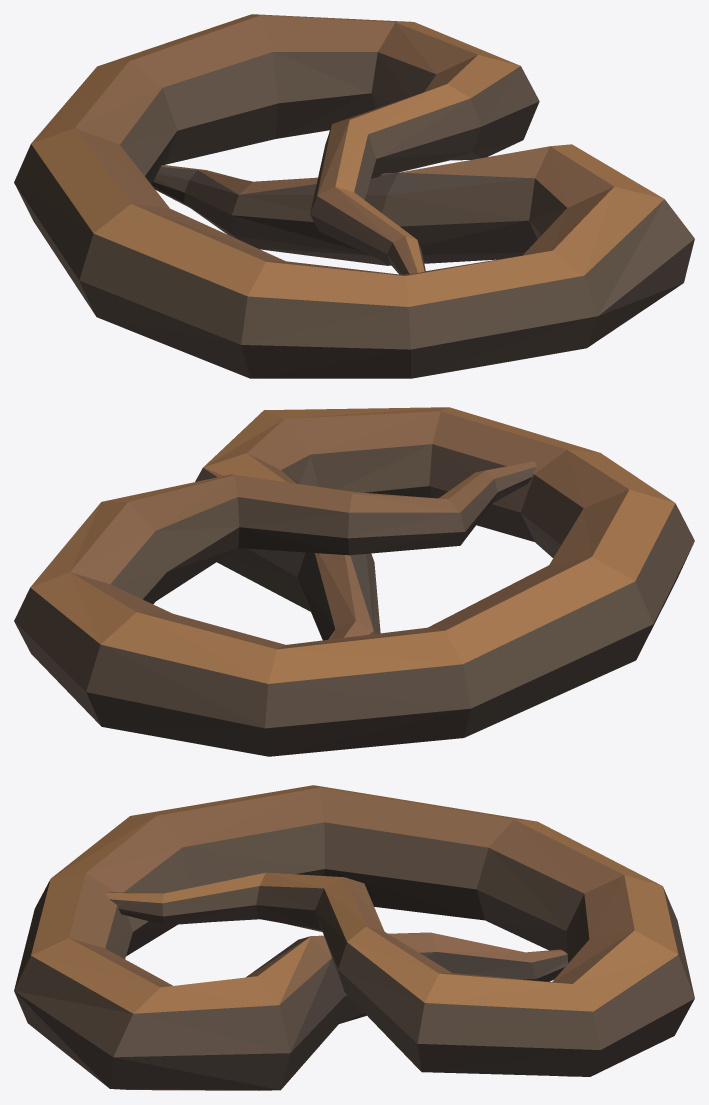
File: pretzel.fbx
The picture shows the model from 3 angles, top to bottom: view 1: azimuth 30°, elevation 25°; view 2: azimuth 150°, elevation 25°; view 3: azimuth 270°, elevation 25°; orthographic projection. The views are drawn at different scales.
Visible parts, largest first — view 1: pTorus1; view 2: pTorus1; view 3: pTorus1.
Part boxes in pixels (left/top/right/bottom): pTorus1: left=14, top=14, right=694, bottom=378; pTorus1: left=14, top=407, right=694, bottom=756; pTorus1: left=14, top=785, right=694, bottom=1090.
Size of the model in its own units: 17.16 by 4.66 by 20.78.
